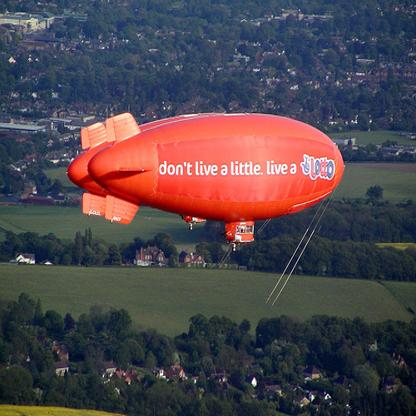Airship: (67, 107, 349, 255)
